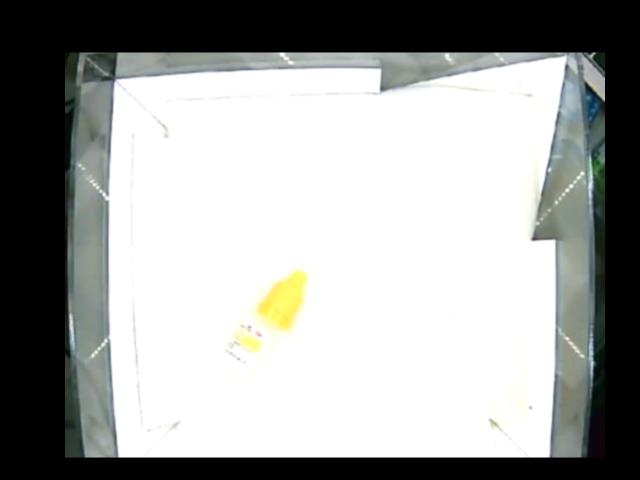Bottle: (222, 268, 307, 375)
